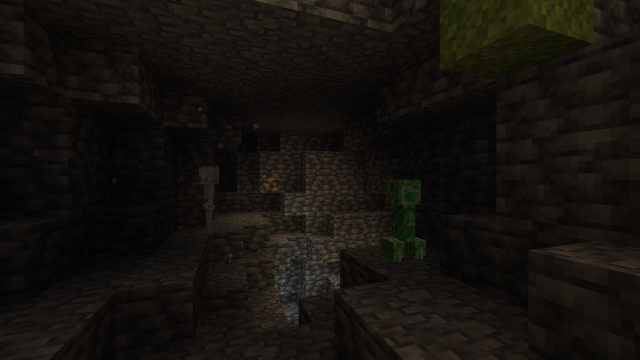creepers: (382, 175, 423, 261)
squelettes: (196, 167, 218, 235)
